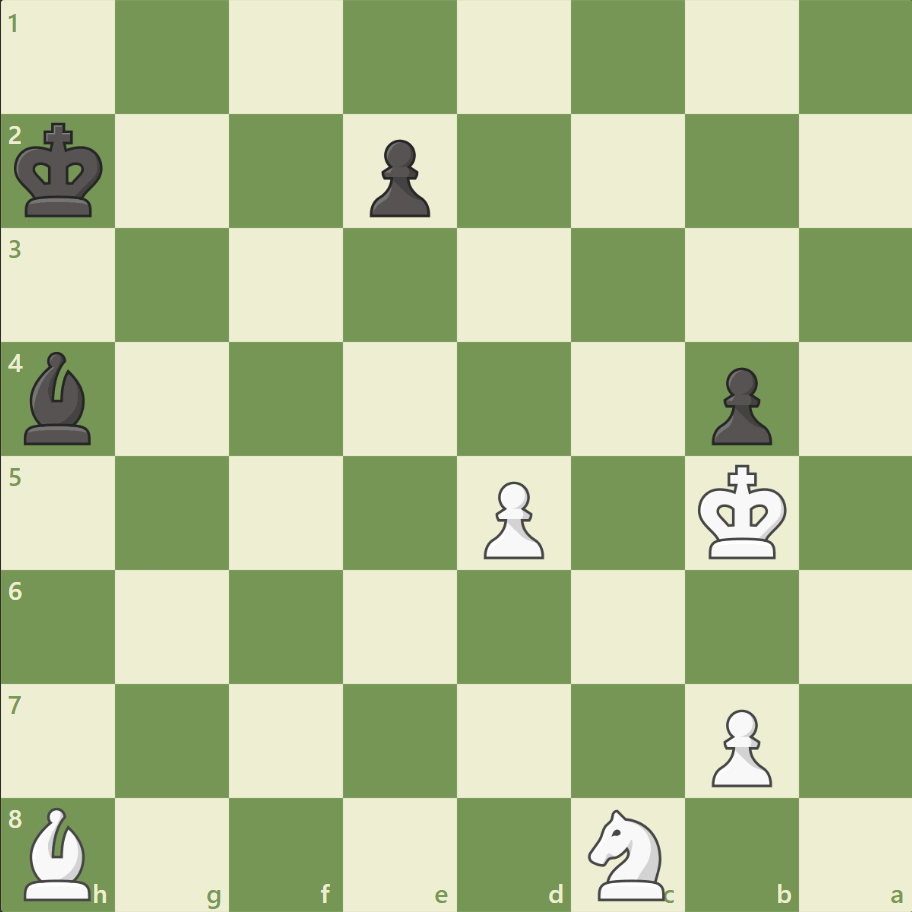B: (17, 801, 101, 904)
K: (692, 458, 792, 566)
N: (579, 802, 676, 904)
P: (701, 700, 776, 791), (474, 473, 549, 564)
b: (17, 347, 101, 449)
k: (11, 117, 111, 225)
p: (701, 359, 776, 450), (361, 132, 435, 223)
